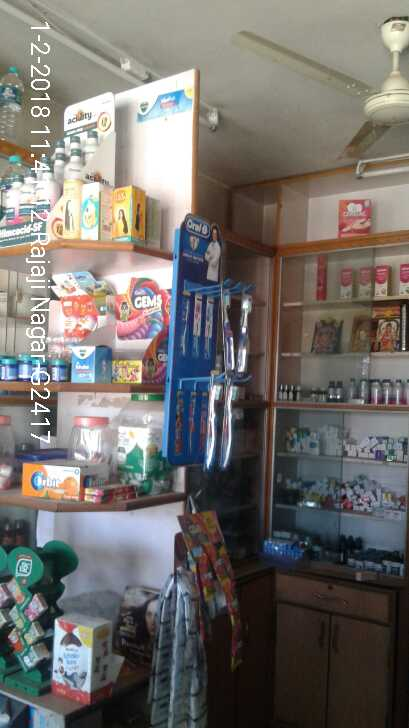vicks: (2, 345, 126, 383)
